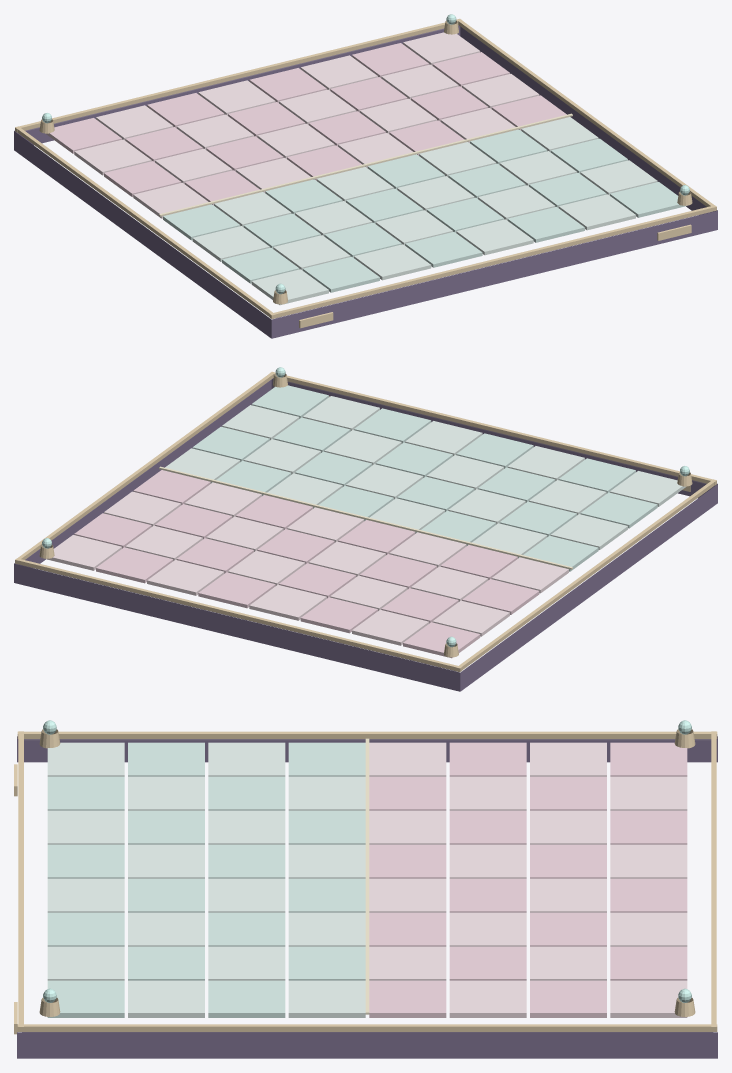
File: stage_board.glb
3 views of the same model, one above another, from view 1: azimuth 30°, elevation 25°; view 2: azimuth 150°, elevation 25°; view 3: azimuth 270°, elevation 25° (orthographic). The views are drawn at different scales.
Parts seen in each view (by area): view 1: stage_board; view 2: stage_board; view 3: stage_board.
Boxes of the visible parts, <box> form: stage_board: <box>14,14,717,338</box>; stage_board: <box>14,367,717,691</box>; stage_board: <box>14,720,717,1058</box>.
Size of the model in its own units: 8.72 by 0.76 by 8.76.
